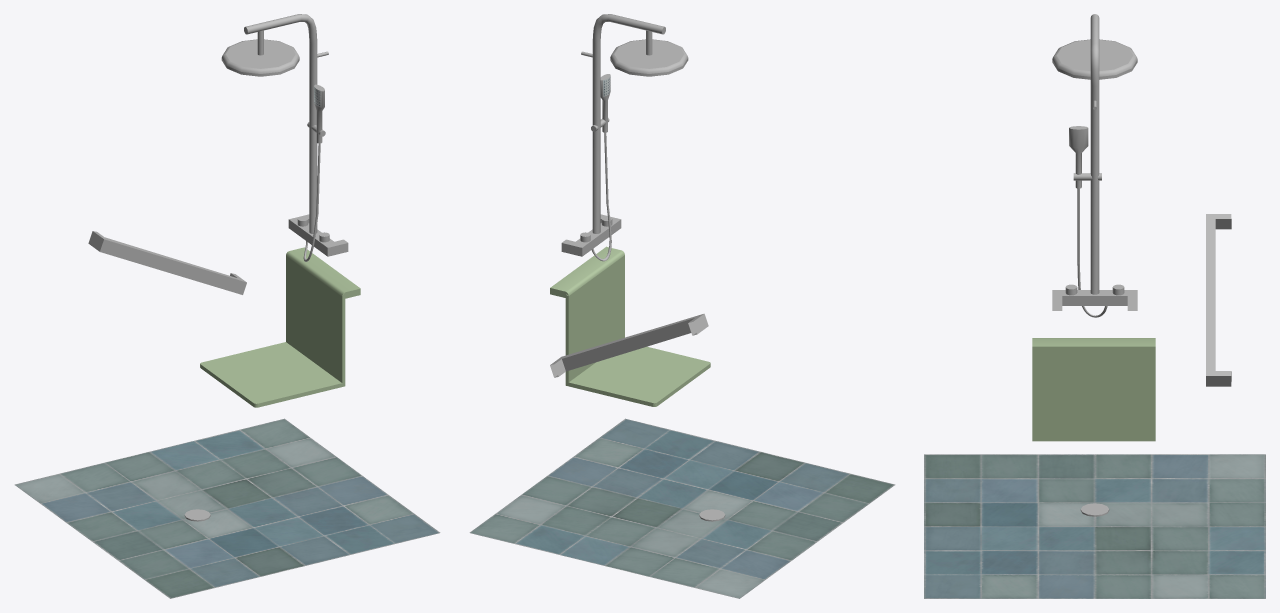
Rendered from Shower.fbx.
The picture shows the model from 3 angles, left to right: view 1: azimuth 30°, elevation 25°; view 2: azimuth 150°, elevation 25°; view 3: azimuth 270°, elevation 25°; orthographic projection. The views are drawn at different scales.
Parts seen in each view (by area): view 1: Shower; view 2: Shower; view 3: Shower.
Part boxes in pixels (<box>): Shower: <box>14,14,440,598</box>; Shower: <box>469,14,895,598</box>; Shower: <box>924,14,1265,598</box>.
Bounding box in the file's own units: 100 × 169 × 100.
